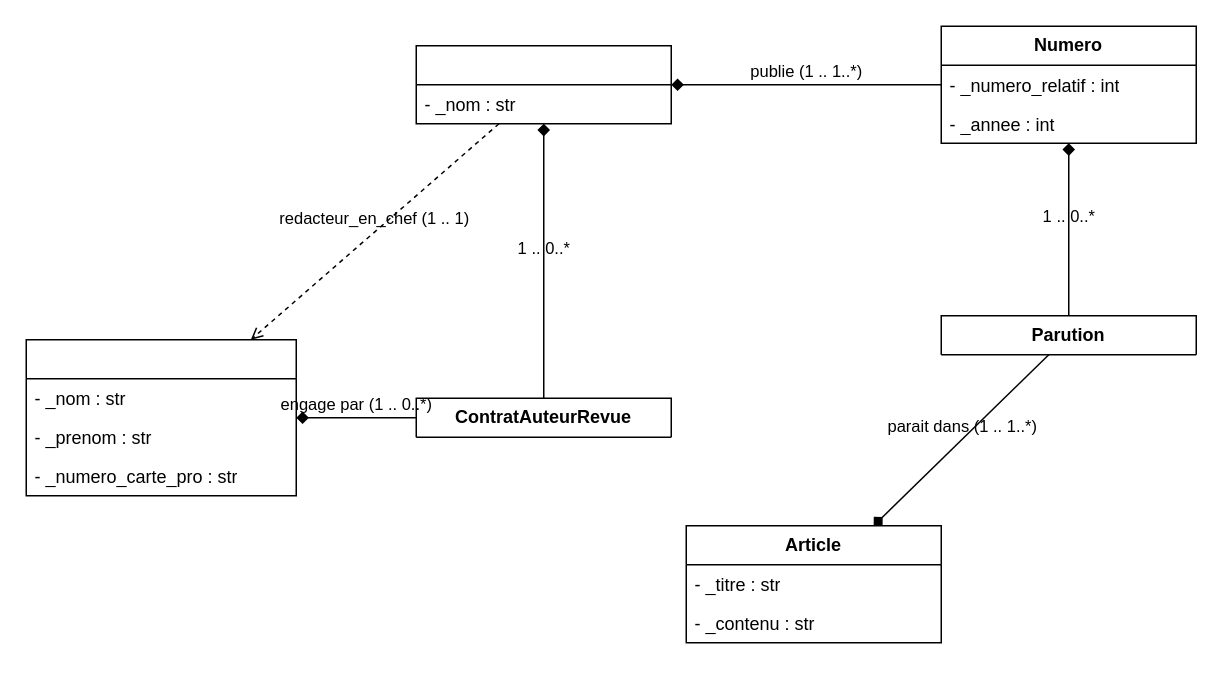
Some shapes in this 1223 by 674 pixel diagram are drawn without their labels. Here are the shapes that lost their labels. From the top down, the box of each, then its label:
(415, 44, 671, 124): Revue
(25, 338, 296, 496): Auteur
